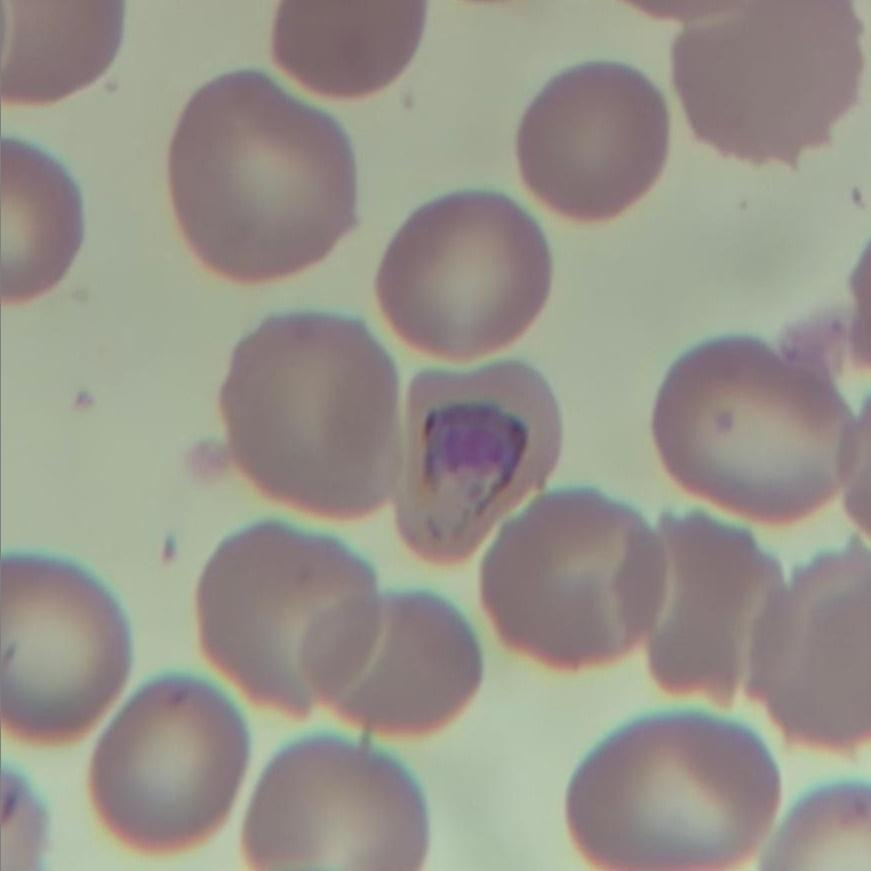Infected: (392, 360, 561, 568)
Uninfected: (168, 72, 360, 282), (195, 520, 381, 719), (657, 335, 856, 519), (615, 514, 798, 705), (223, 314, 393, 515), (563, 719, 778, 871), (482, 487, 662, 665), (673, 0, 862, 162), (377, 194, 550, 354), (90, 680, 250, 851), (298, 587, 478, 737), (745, 537, 871, 749), (243, 739, 436, 871), (0, 554, 134, 743), (515, 60, 669, 223), (267, 0, 422, 98)
